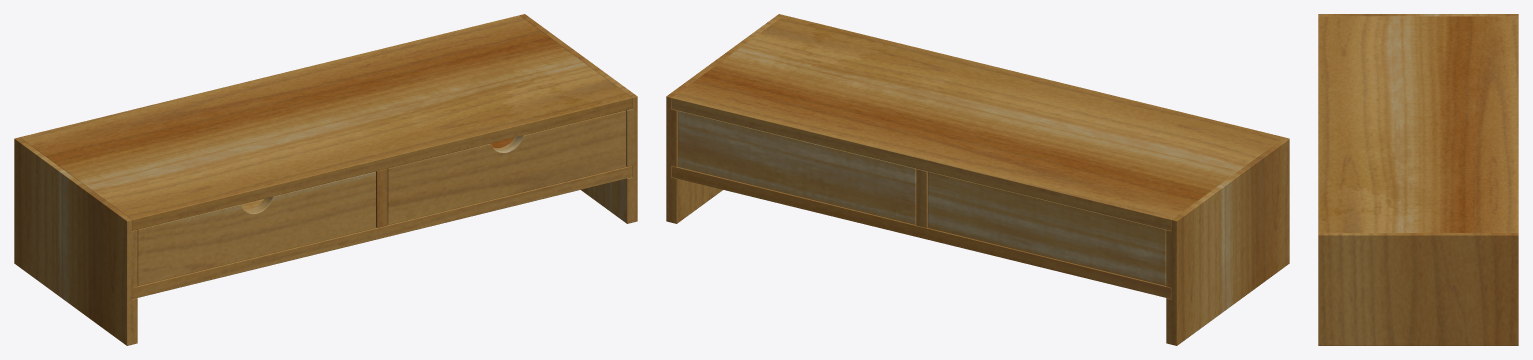
Rendered from monitorstaender.glb.
The picture shows the model from 3 angles, left to right: view 1: azimuth 30°, elevation 25°; view 2: azimuth 150°, elevation 25°; view 3: azimuth 270°, elevation 25°; orthographic projection. The views are drawn at different scales.
Visible parts, largest first — view 1: defaultobject; view 2: defaultobject; view 3: defaultobject.
Part boxes in pixels (box(x1,y1,x2,y2)): defaultobject: box(14, 14, 637, 345); defaultobject: box(666, 14, 1289, 345); defaultobject: box(1318, 14, 1518, 345).
Size of the model in its own units: 47 by 11 by 18.
Materials: 1 (1 with a texture image).
